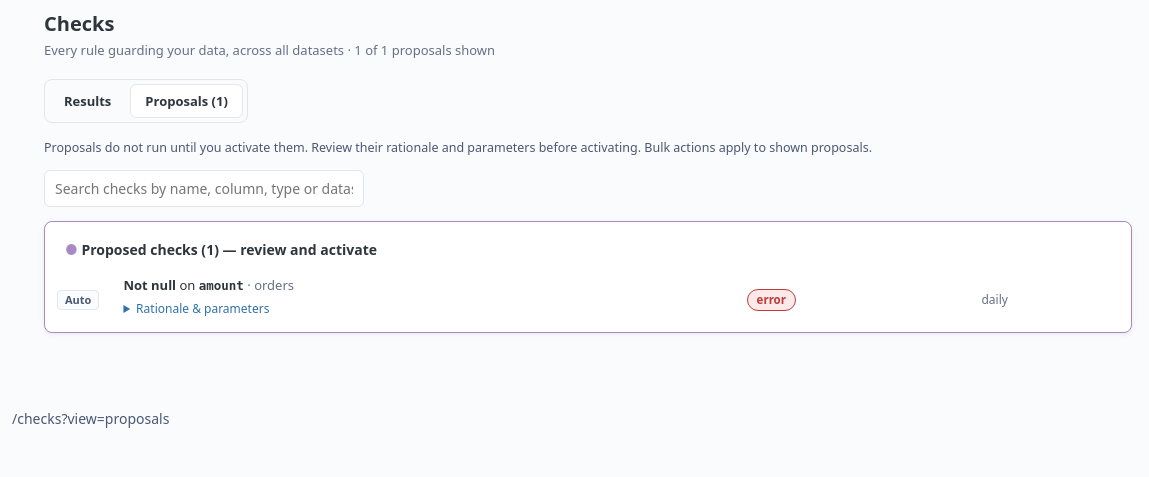
Check results and proposals › lets viewers inspect proposals without mutation controls
Step 1. Click the heading "Rationale & parameters" → {"x": 203, "y": 308}, box [136,300,269,317]
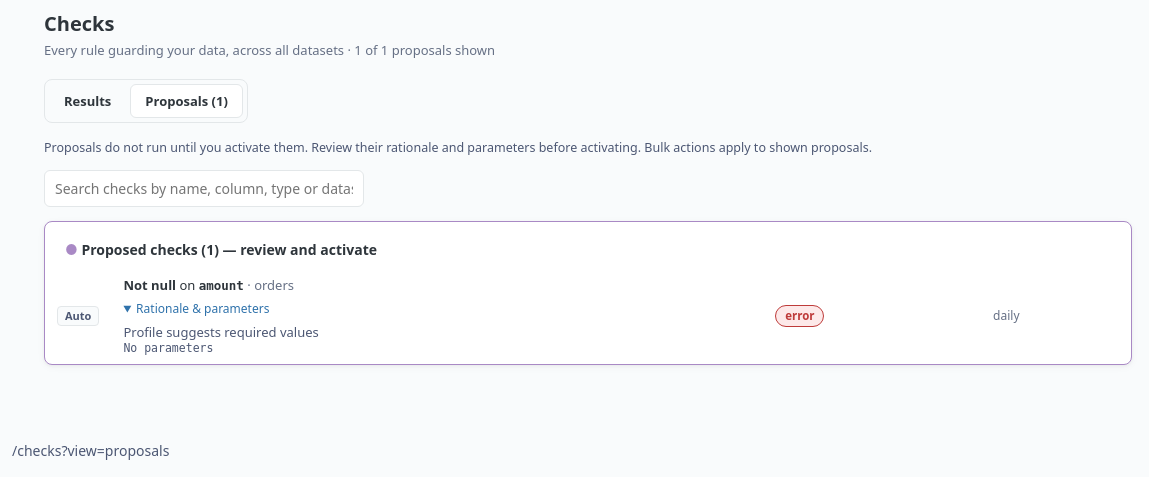
Check: the text with test id "location" reads "/checks?view=proposals", box [12,441,169,460]
Check: the text "Profile suggests required values" is shown, box [123,323,319,341]
